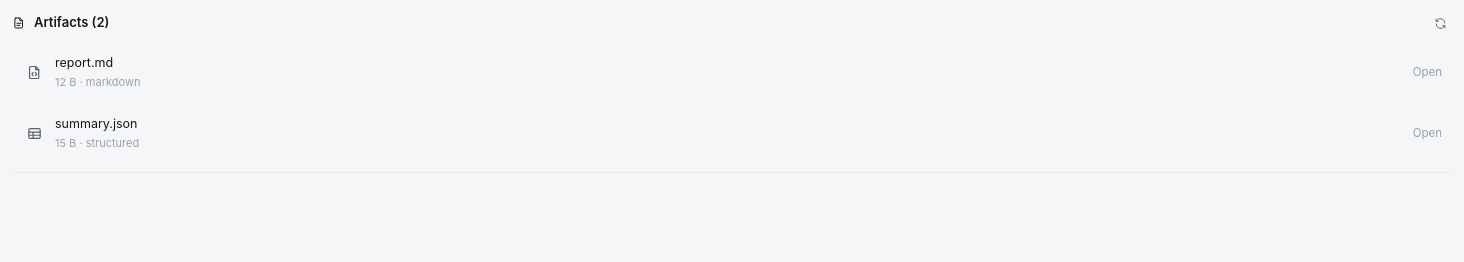
lists only the selected Launch artifacts and previews human-readable output in-app
Expected: the text "report.md" is shown, [55,55,113,70]
Expected: the text "summary.json" is shown, [55,116,137,131]
Click the button "report.md 12 B · markdown Open".
click(84, 62)  # box [12,45,1452,99]
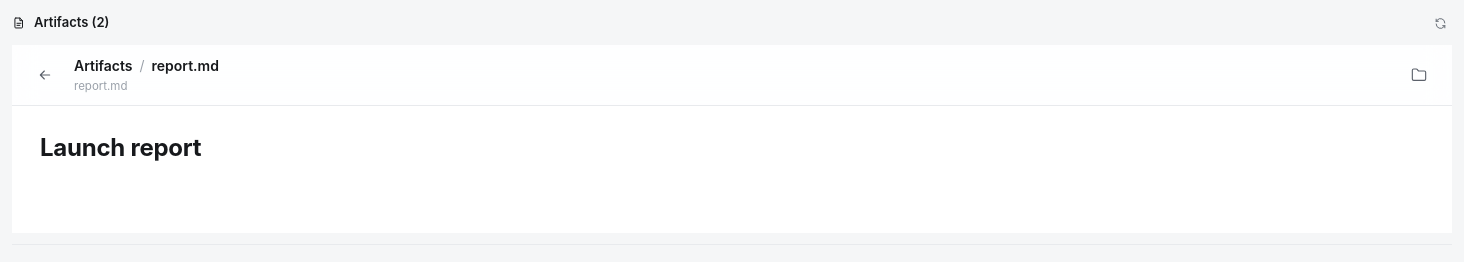
Expected: the 1st text "report.md" is shown, [152,55,219,76]
Expected: the heading "Launch report" is shown, [40,133,201,162]
